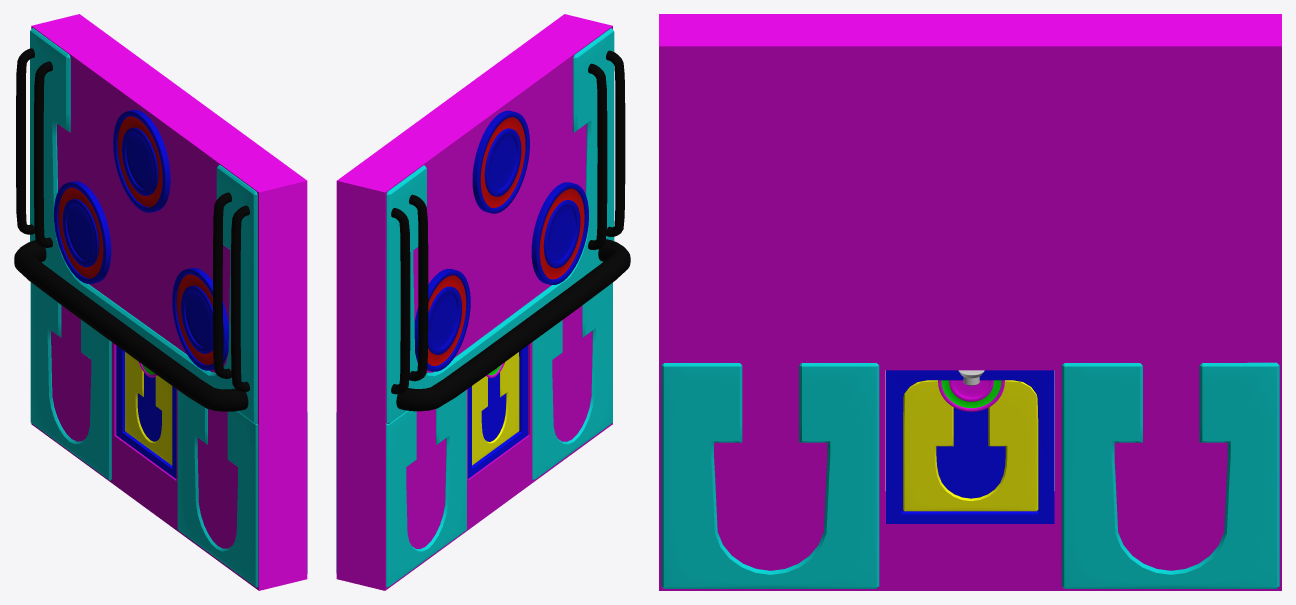
File: Exterior_Door.fbx
3 renders of one model, left to right at view 1: azimuth 30°, elevation 25°; view 2: azimuth 150°, elevation 25°; view 3: azimuth 270°, elevation 25°, orthographic. The views are drawn at different scales.
Parts seen in each view (by area): view 1: Exterior_Door_Frame, Exterior_Door; view 2: Exterior_Door_Frame, Exterior_Door; view 3: Exterior_Door_Frame, Exterior_Door.
Part boxes in pixels (x1,y1,x2,y2): Exterior_Door_Frame: (14, 14, 307, 590); Exterior_Door: (116, 345, 176, 478); Exterior_Door_Frame: (336, 14, 630, 590); Exterior_Door: (468, 345, 527, 478); Exterior_Door_Frame: (659, 14, 1281, 590); Exterior_Door: (886, 370, 1054, 523).
Bounding box in the file's own units: 304 × 1213 × 1257.
